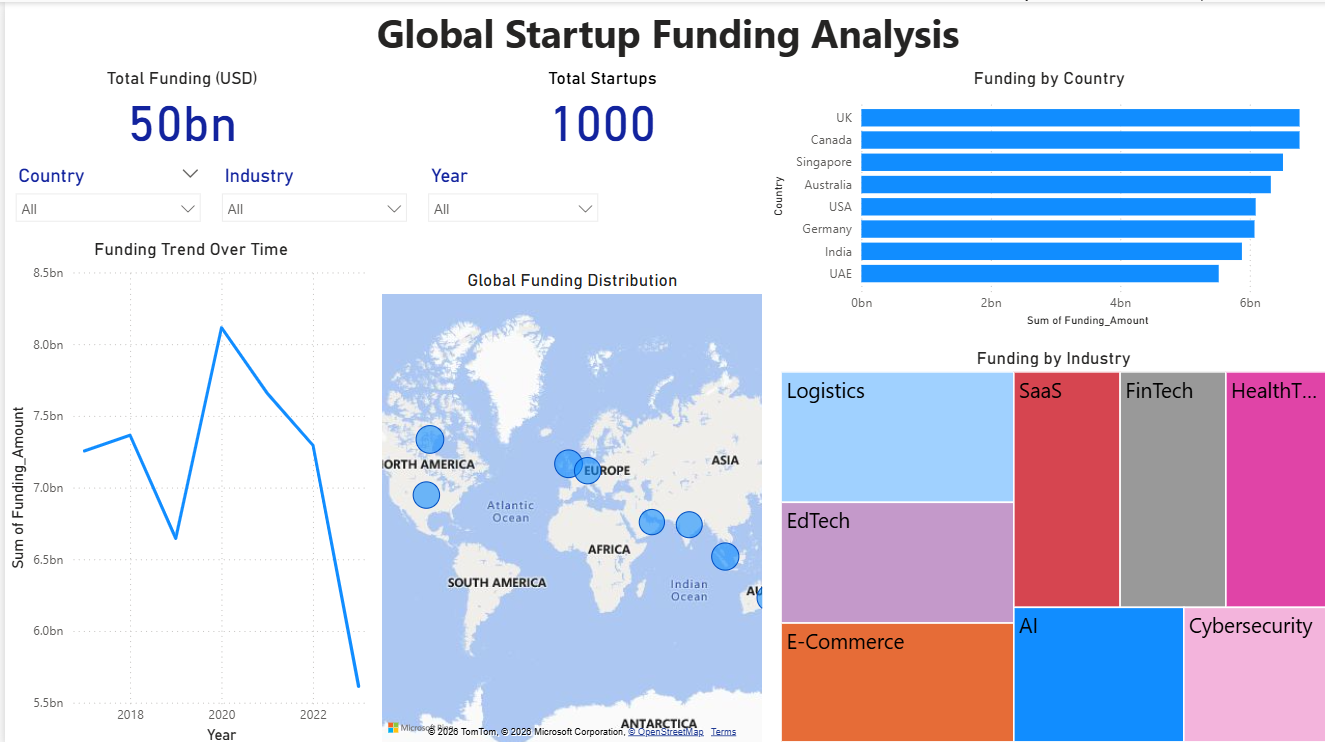

The page's visual inventory and layout, read from the dashboard file:
{"tool":"powerbi","page":{"name":"Page 1","canvas":[1280,720],"ordinal":0},"visuals":[{"type":"card","title":"Total Funding (USD)","fields":{"Values":["Sum(Sample dataset.Funding_Amount)"]},"box":[0,62.7,341.4,78.4],"z":0},{"type":"card","title":"Total Startups","fields":{"Values":["Sample dataset.Total Startups"]},"box":[417.4,62.7,318.5,78.4],"z":1000},{"type":"lineChart","title":"Funding Trend Over Time","fields":{"Category":["Sample dataset.Date.Variation.Date Hierarchy.Year","Sample dataset.Date.Variation.Date Hierarchy.Quarter","Sample dataset.Date.Variation.Date Hierarchy.Month","Sample dataset.Date.Variation.Date Hierarchy.Day"],"Y":["Sum(Sample dataset.Funding_Amount)"]},"box":[0,228,359.5,492.2],"z":2000},{"type":"clusteredBarChart","title":"Funding by Country","fields":{"Category":["Sample dataset.Country"],"Y":["Sum(Sample dataset.Funding_Amount)"]},"box":[735.9,62.7,544.1,255.8],"z":3000},{"type":"treemap","title":"Funding by Industry","fields":{"Group":["Sample dataset.Industry"],"Values":["Sum(Sample dataset.Funding_Amount)"]},"box":[744.4,333,535.7,387.3],"z":4000},{"type":"textbox","box":[0,0,1280,62.7],"z":5000},{"type":"slicer","fields":{"Values":["Sample dataset.Country"]},"box":[0,152,199.1,74.8],"z":6000},{"type":"slicer","fields":{"Values":["Sample dataset.Industry"]},"box":[199.1,152,199.1,73.6],"z":7000},{"type":"slicer","fields":{"Values":["Sample dataset.Date.Variation.Date Hierarchy.Year","Sample dataset.Date.Variation.Date Hierarchy.Quarter","Sample dataset.Date.Variation.Date Hierarchy.Month","Sample dataset.Date.Variation.Date Hierarchy.Day"]},"box":[398.1,152,184.6,76],"z":8000},{"type":"map","title":"Global Funding Distribution","fields":{"Category":["Sample dataset.Country"],"Size":["Sum(Sample dataset.Funding_Amount)"]},"box":[359.5,258.2,376.4,462.1],"z":9000}]}

Visuals, with their boxes in screenshot pixels (x1, y1, x2, y2), scaled from the page's 1280x720 canvas onto the 1325x742 screenshot:
"Total Funding (USD)" card: pyautogui.locateOnScreen(0, 65, 353, 145)
"Total Startups" card: pyautogui.locateOnScreen(432, 65, 762, 145)
"Funding Trend Over Time" lineChart: pyautogui.locateOnScreen(0, 235, 372, 741)
"Funding by Country" clusteredBarChart: pyautogui.locateOnScreen(762, 65, 1324, 328)
"Funding by Industry" treemap: pyautogui.locateOnScreen(771, 343, 1324, 741)
textbox: pyautogui.locateOnScreen(0, 0, 1324, 65)
slicer - Sample dataset.Country: pyautogui.locateOnScreen(0, 157, 206, 234)
slicer - Sample dataset.Industry: pyautogui.locateOnScreen(206, 157, 412, 232)
slicer - Sample dataset.Date.Variation.Date Hierarchy.Year x Sample dataset.Date.Variation.Date Hierarchy.Quarter: pyautogui.locateOnScreen(412, 157, 603, 235)
"Global Funding Distribution" map: pyautogui.locateOnScreen(372, 266, 762, 741)
